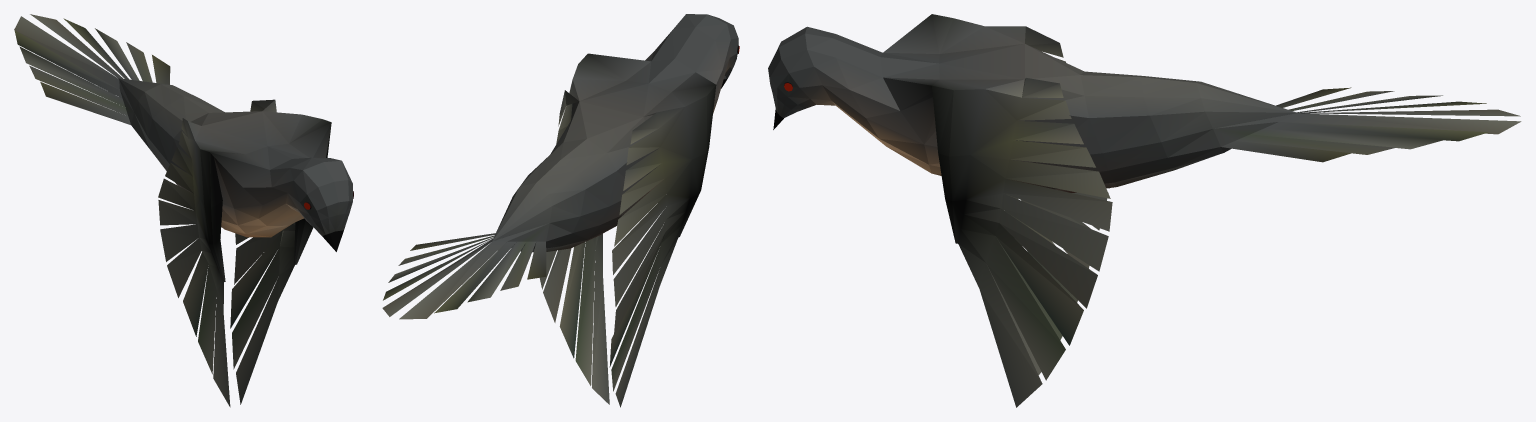
The model's file is old_pigeon.glb.
3 renders of one model, left to right at view 1: azimuth 30°, elevation 25°; view 2: azimuth 150°, elevation 25°; view 3: azimuth 270°, elevation 25°, orthographic. The views are drawn at different scales.
Parts seen in each view (by area): view 1: pigeon_body; view 2: pigeon_body; view 3: pigeon_body.
Boxes of the visible parts, box(x1,y1,x2,y2) form: pigeon_body: box(14, 14, 353, 407); pigeon_body: box(382, 14, 739, 407); pigeon_body: box(768, 14, 1521, 407).
Bounding box in the file's own units: 22.32 × 53.01 × 97.53.
